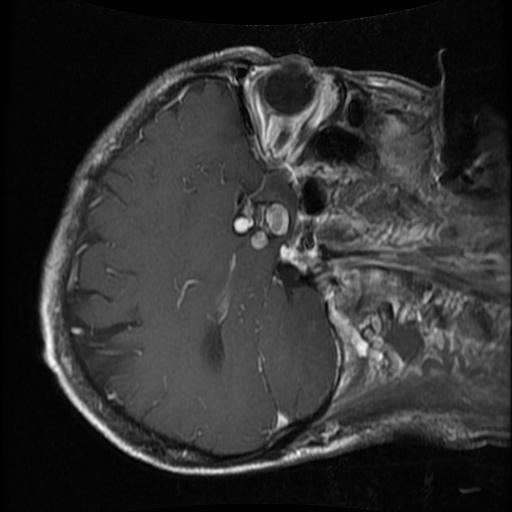glioma: (228, 189, 292, 252)
